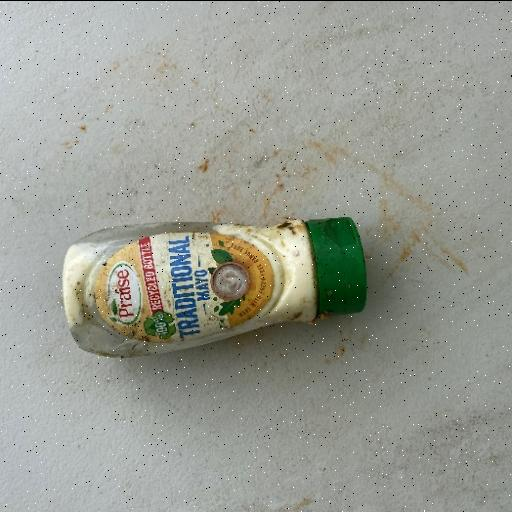Plastic: (60, 213, 368, 361)
